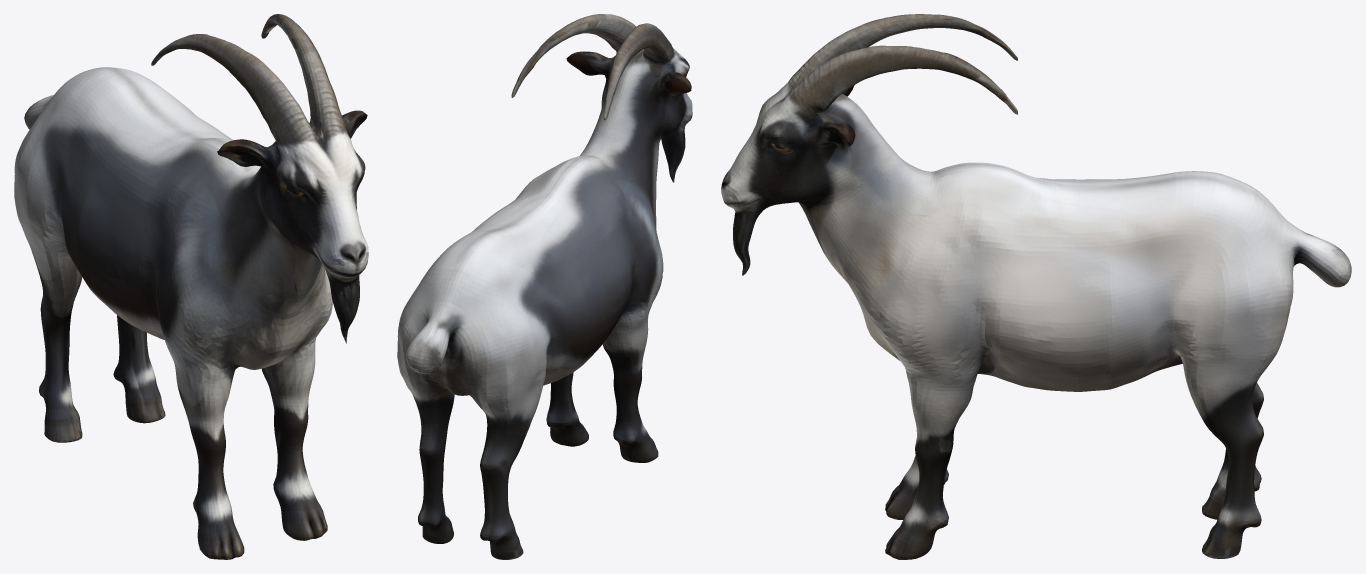
File: goat.glb
3 views of the same model, side by side, from view 1: azimuth 30°, elevation 25°; view 2: azimuth 150°, elevation 25°; view 3: azimuth 270°, elevation 25° (orthographic). The views are drawn at different scales.
Bounding box in the file's own units: 0.6091 × 1.76 × 2.
1 material, 1 textured.
